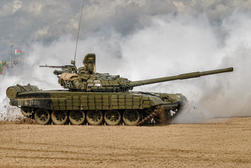t72: (7, 65, 233, 120)
